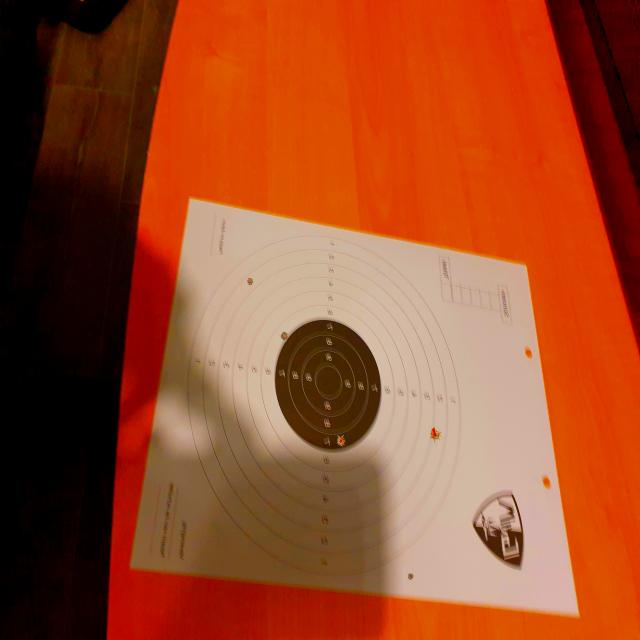0: (408, 572, 414, 581)
3: (430, 427, 441, 443), (246, 277, 254, 286)
7: (337, 434, 346, 448), (279, 331, 289, 342)
Target: (186, 232, 463, 579)
black_contour: (274, 320, 382, 454)
